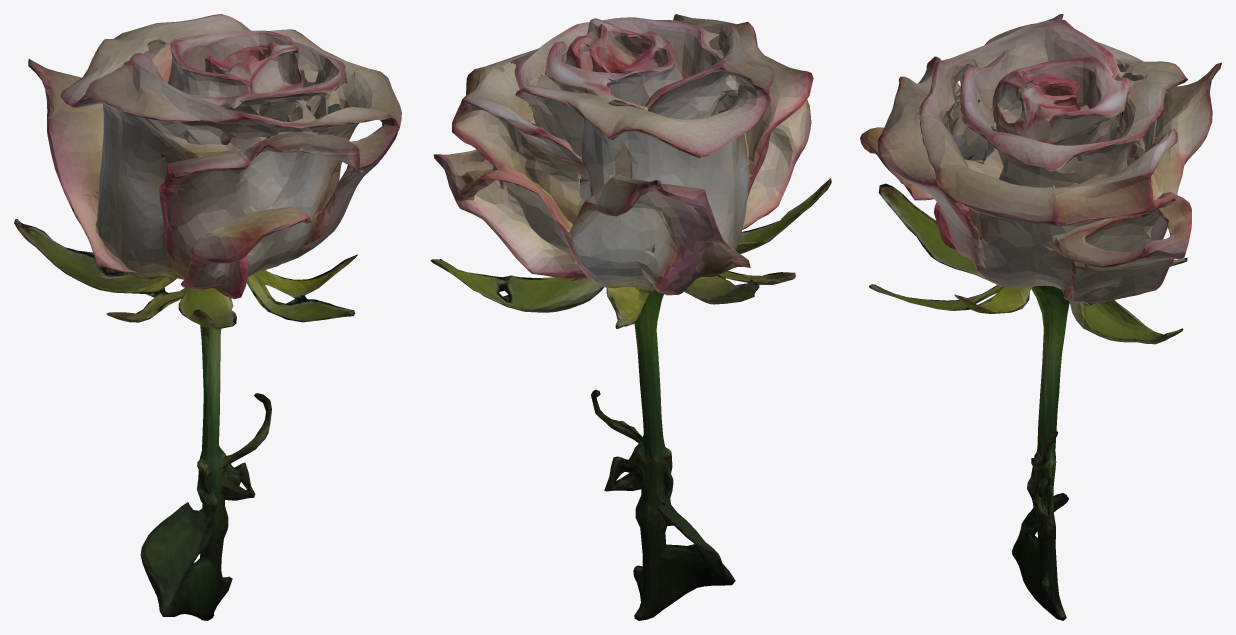
The picture shows the model from 3 angles, left to right: view 1: azimuth 30°, elevation 25°; view 2: azimuth 150°, elevation 25°; view 3: azimuth 270°, elevation 25°; orthographic projection. The views are drawn at different scales.
Visible parts, largest first — view 1: world; view 2: world; view 3: world.
Part boxes in pixels (x1,y1,x2,y2): world: (14, 14, 401, 620); world: (430, 14, 831, 620); world: (860, 14, 1221, 620).
Bounding box in the file's own units: 0.5694 × 0.9404 × 0.549.
Materials: 1 (1 with a texture image).
